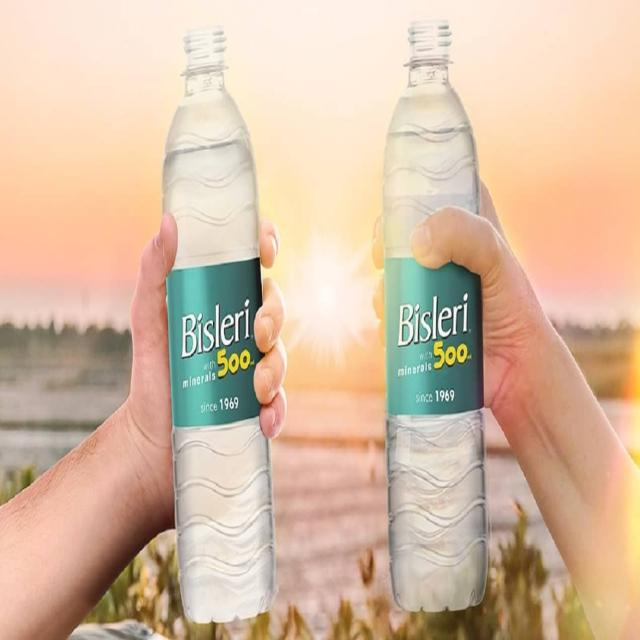bottle: (157, 0, 296, 640), (381, 0, 514, 640)
